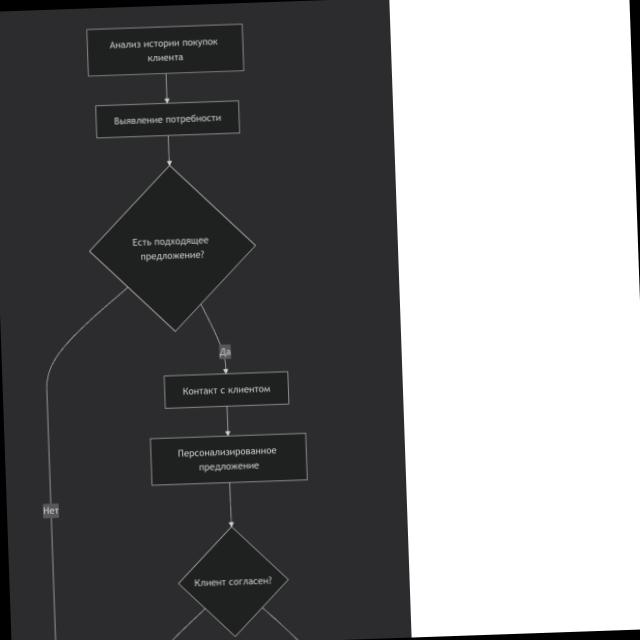arrow: (200, 303, 229, 374), (225, 483, 235, 527), (162, 73, 171, 103), (165, 135, 173, 166), (223, 406, 231, 436)
diamond: (87, 162, 259, 335), (177, 524, 291, 639)
rectangle: (150, 433, 309, 486), (86, 23, 244, 76), (95, 100, 241, 139), (164, 371, 290, 409)
text_region: (43, 505, 59, 515), (219, 347, 231, 357)
